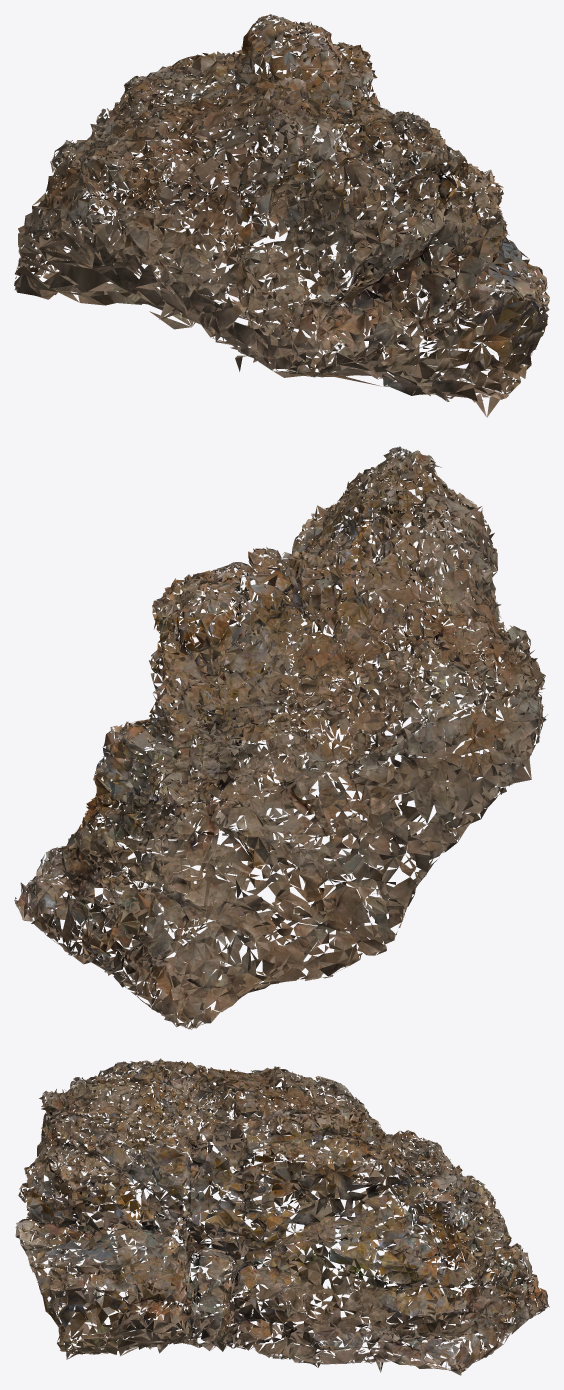
Rendered from boulder_01.glb.
The picture shows the model from 3 angles, top to bottom: view 1: azimuth 30°, elevation 25°; view 2: azimuth 150°, elevation 25°; view 3: azimuth 270°, elevation 25°; orthographic projection. The views are drawn at different scales.
Parts seen in each view (by area): view 1: boulder_01; view 2: boulder_01; view 3: boulder_01.
Boxes of the visible parts, <box> form: boulder_01: <box>14,14,549,417</box>; boulder_01: <box>14,446,547,1029</box>; boulder_01: <box>15,1058,549,1375</box>.
Bounding box in the file's own units: 1.29 × 1.01 × 1.84.
Materials: 1 (1 with a texture image).
